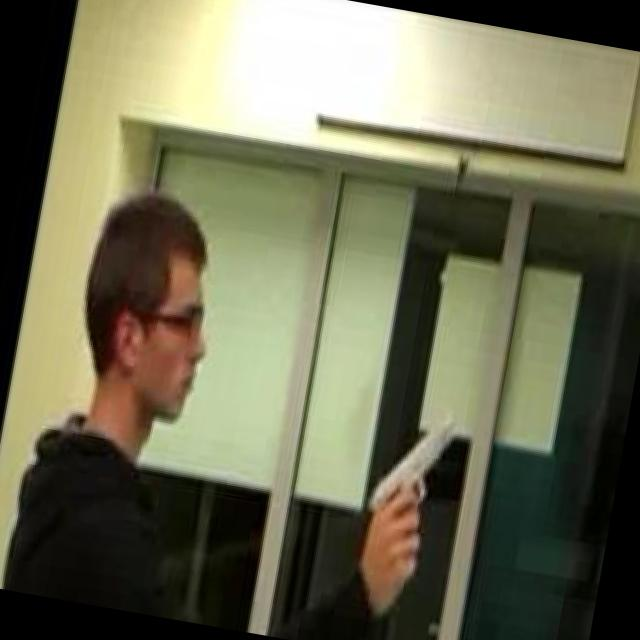Guns: (356, 393, 470, 538)
